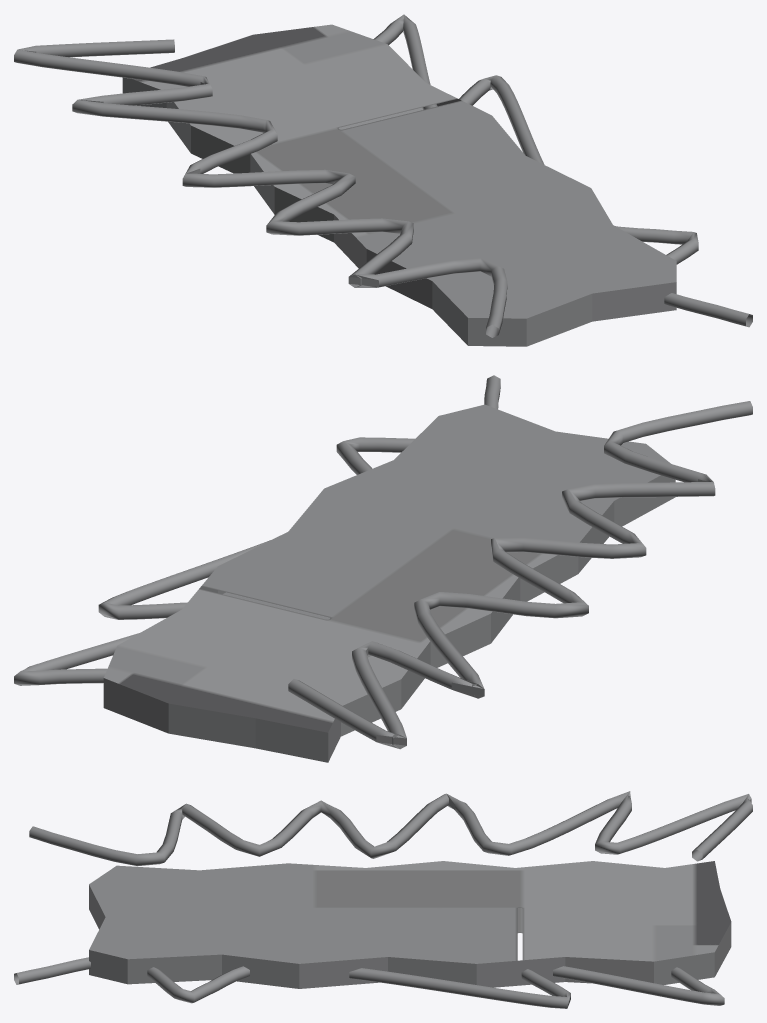
3 views of the same model, one above another, from view 1: azimuth 30°, elevation 25°; view 2: azimuth 150°, elevation 25°; view 3: azimuth 270°, elevation 25° (orthographic). The views are drawn at different scales.
Size of the model in its own units: 0.5737 by 0.085 by 1.04.
